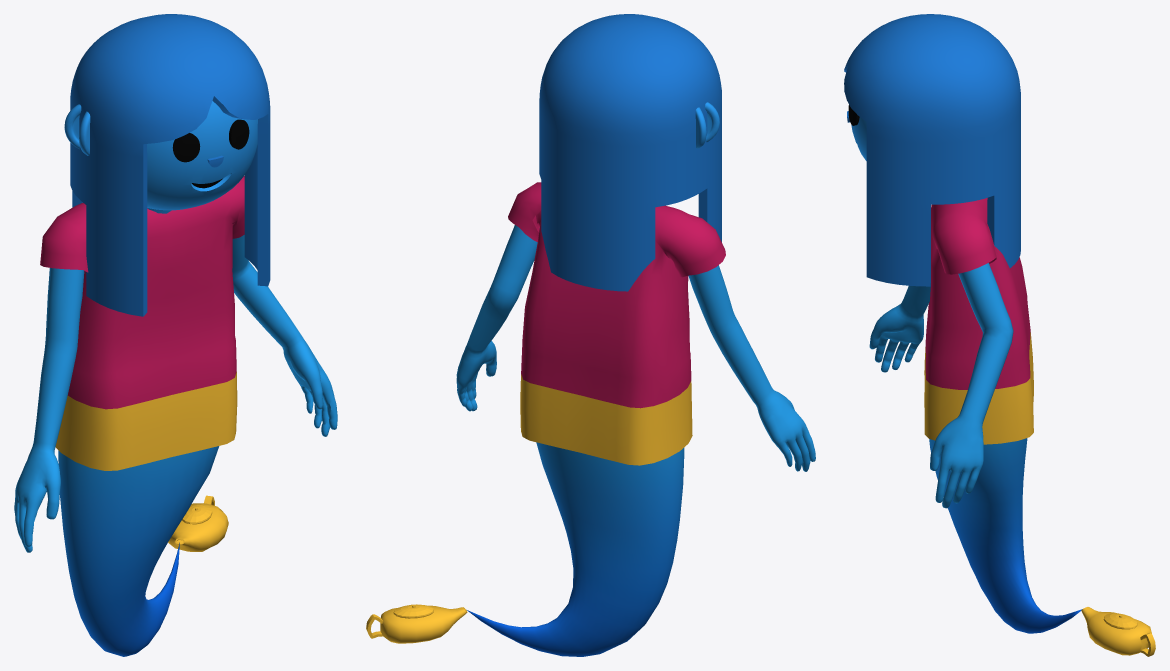
File: woman_genie.fbx
3 renders of one model, left to right at view 1: azimuth 30°, elevation 25°; view 2: azimuth 150°, elevation 25°; view 3: azimuth 270°, elevation 25°, orthographic. The views are drawn at different scales.
Visible parts, largest first — view 1: Circle.1083, Roundcube.234, Sphere.183, Roundcube.233, Cube.2700, Circle.1086, Cylinder.197; view 2: Circle.1083, Roundcube.234, Sphere.183, Cube.2700, Cylinder.197; view 3: Roundcube.234, Circle.1083, Sphere.183, Cube.2700.
Boxes of the visible parts, left/top/right/bottom form: Circle.1083: left=14, top=176, right=337, bottom=552; Roundcube.234: left=70, top=14, right=270, bottom=316; Sphere.183: left=58, top=446, right=219, bottom=656; Roundcube.233: left=147, top=101, right=257, bottom=213; Cube.2700: left=168, top=495, right=228, bottom=551; Circle.1086: left=172, top=119, right=249, bottom=162; Cylinder.197: left=64, top=104, right=90, bottom=155; Circle.1083: left=456, top=182, right=815, bottom=471; Roundcube.234: left=539, top=14, right=721, bottom=291; Sphere.183: left=467, top=442, right=684, bottom=656; Cube.2700: left=366, top=605, right=467, bottom=643; Cylinder.197: left=695, top=102, right=719, bottom=148; Roundcube.234: left=844, top=14, right=1020, bottom=286; Circle.1083: left=869, top=198, right=1033, bottom=508; Sphere.183: left=929, top=438, right=1082, bottom=633; Cube.2700: left=1081, top=607, right=1155, bottom=656.
Size of the model in its own units: 114 by 207 by 98.34.
Materials: 1 (1 with a texture image).
